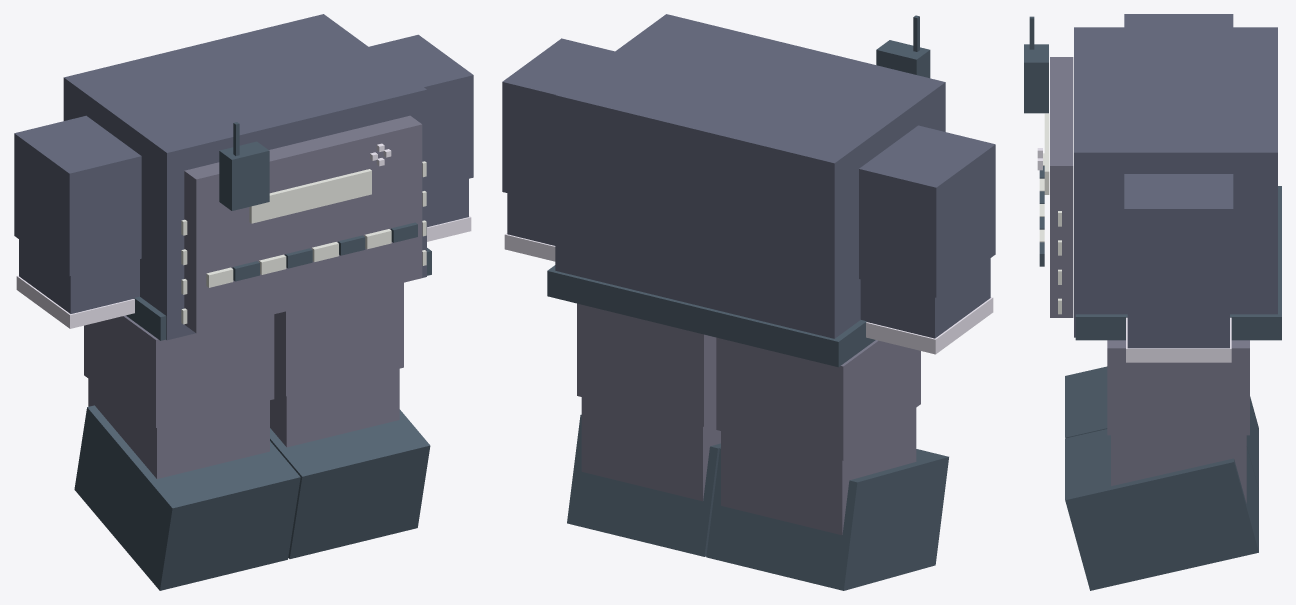
The model's file is police-lavender.glb.
3 views of the same model, side by side, from view 1: azimuth 30°, elevation 25°; view 2: azimuth 150°, elevation 25°; view 3: azimuth 270°, elevation 25° (orthographic). The views are drawn at different scales.
Parts seen in each view (by area): view 1: jacket, duty-vest, shoe-Right, upper-sleeve-Right, trouser-Right, shoe-Left, trouser-Left, lower-trouser-Right, upper-sleeve-Left, lower-trouser-Left, lower-sleeve-Right, vest-label (+5 smaller); view 2: jacket, upper-sleeve-Right, shoe-Right, trouser-Right, trouser-Left, lower-trouser-Right, lower-trouser-Left, duty-belt, upper-sleeve-Left, shoe-Left, lower-sleeve-Right, cuff-Right (+3 smaller); view 3: jacket, shoe-Left, upper-sleeve-Left, trouser-Left, duty-vest, lower-trouser-Left, lower-sleeve-Left, shoe-Right, duty-belt, radio, cuff-Left, upper-sleeve-Right (+1 smaller).
Boxes of the visible parts, box(x1,y1,x2,y2) form: jacket: box(63, 14, 426, 340); duty-vest: box(184, 115, 422, 333); shoe-Right: box(74, 405, 300, 590); upper-sleeve-Right: box(14, 115, 141, 276); trouser-Right: box(84, 314, 274, 427); shoe-Left: box(270, 409, 430, 558); trouser-Left: box(274, 282, 403, 396); lower-trouser-Right: box(88, 379, 269, 478); upper-sleeve-Left: box(369, 34, 473, 188); lower-trouser-Left: box(270, 368, 399, 447); lower-sleeve-Right: box(19, 239, 139, 313); vest-label: box(249, 169, 371, 223); jacket: box(555, 14, 945, 338); upper-sleeve-Right: box(859, 125, 995, 297); shoe-Right: box(706, 448, 948, 590); trouser-Right: box(716, 337, 920, 460); trouser-Left: box(577, 303, 716, 426); lower-trouser-Right: box(721, 408, 916, 534); lower-trouser-Left: box(581, 397, 720, 501); duty-belt: box(547, 265, 875, 367); upper-sleeve-Left: box(502, 38, 614, 204); shoe-Left: box(567, 414, 720, 556); lower-sleeve-Right: box(860, 258, 990, 338); cuff-Right: box(866, 297, 993, 354); jacket: box(1074, 27, 1277, 337); shoe-Left: box(1065, 429, 1258, 590); upper-sleeve-Left: box(1124, 174, 1233, 309); trouser-Left: box(1107, 340, 1249, 435); duty-vest: box(1050, 57, 1073, 317); lower-trouser-Left: box(1111, 435, 1246, 503); lower-sleeve-Left: box(1127, 310, 1229, 348); shoe-Right: box(1065, 366, 1258, 489); duty-belt: box(1075, 186, 1281, 340); radio: box(1024, 44, 1048, 113); cuff-Left: box(1126, 317, 1231, 362); upper-sleeve-Right: box(1124, 14, 1233, 27).
Size of the model in its own units: 1.07 by 1.21 by 0.6.
